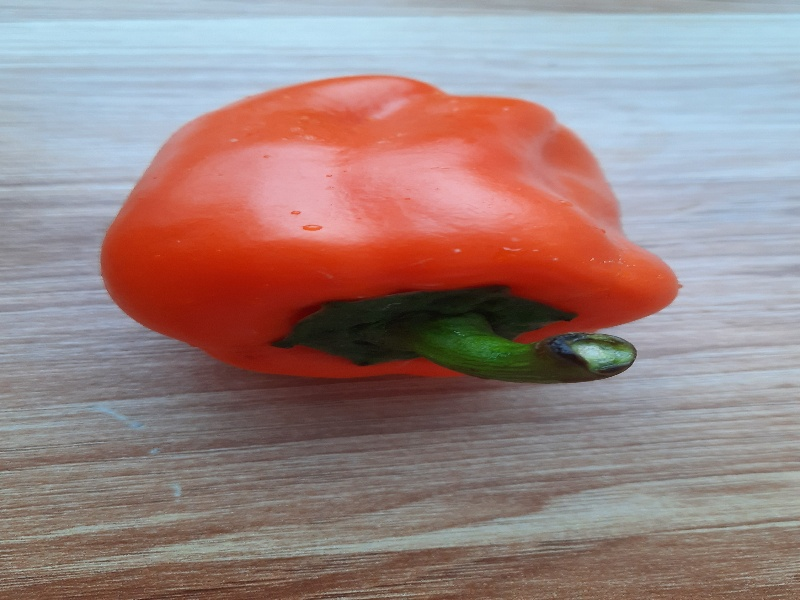vege: (93, 70, 687, 400)
